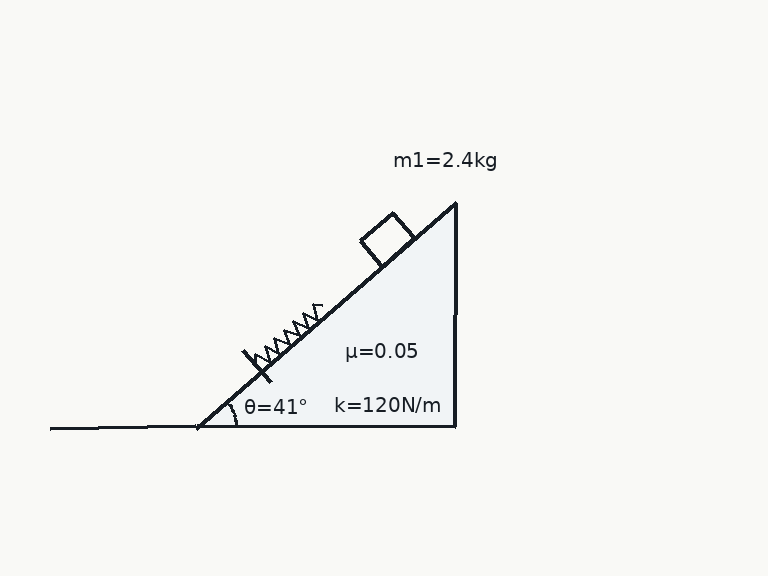block: (358, 211, 416, 268)
ramp: (194, 200, 457, 429)
spring: (253, 302, 324, 366)
